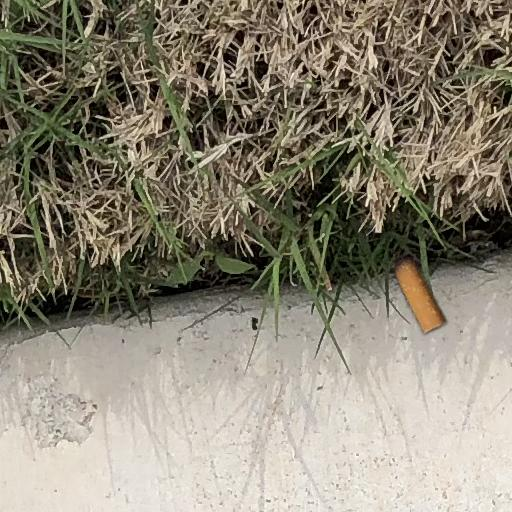smoke: (395, 255, 445, 333)
